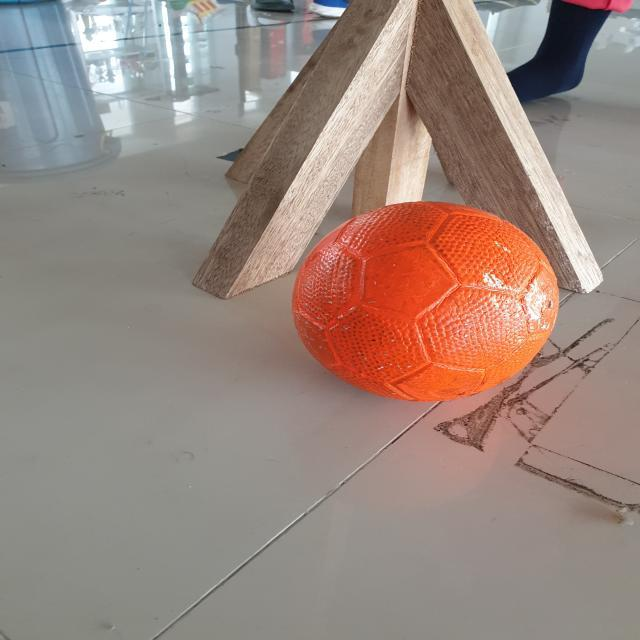bola: (280, 193, 572, 409)
